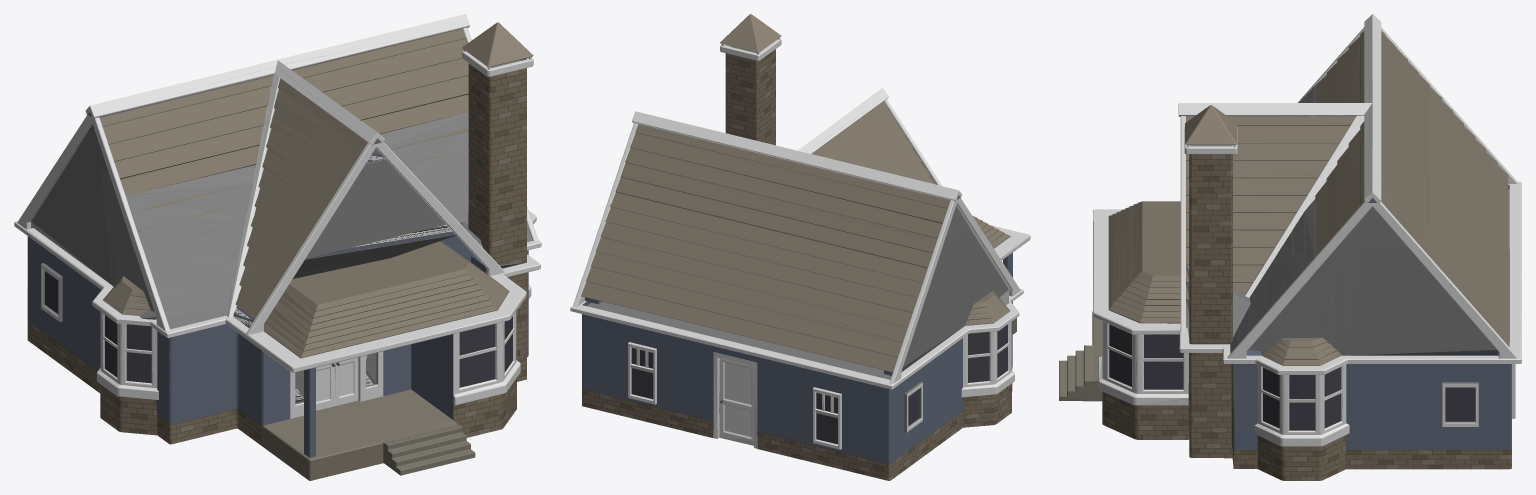
Rendered from Residential House.gltf.
3 views of the same model, side by side, from view 1: azimuth 30°, elevation 25°; view 2: azimuth 150°, elevation 25°; view 3: azimuth 270°, elevation 25° (orthographic). The views are drawn at different scales.
Size of the model in its own units: 2.51 by 2.02 by 2.46.
1 material, 1 textured.
